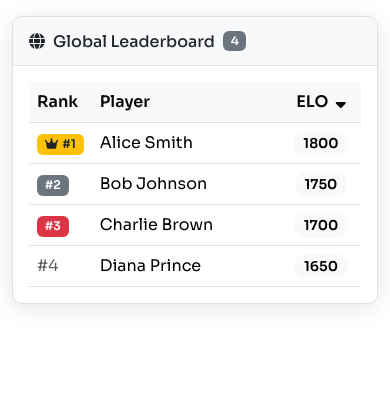
GlobalLeaderboard › mobile view › should show expanded stats with Record label
Check: the text "Alice Smith" is shown, box [92,123,281,164]
Click the text "Alice Smith": x=195, y=143 [29,123,361,164]
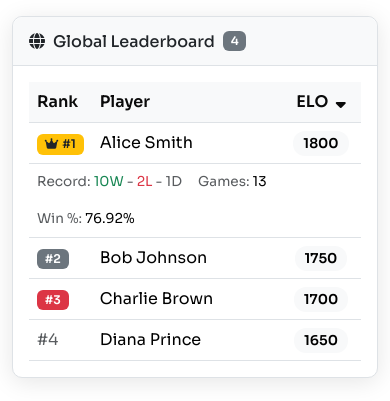
Check: the text "Record:" is shown, box [37,173,94,190]
